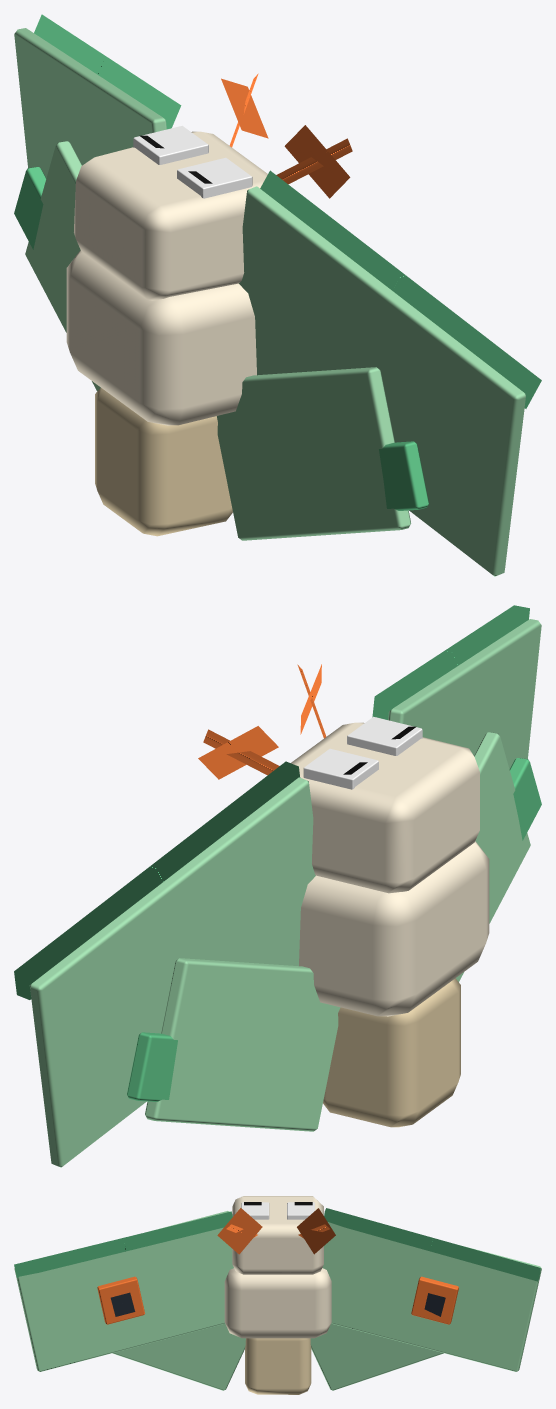
File: lil-moth-lee-mason_8ojwMQpu6DK-blocky_lod1.glb
3 renders of one model, top to bottom at view 1: azimuth 30°, elevation 25°; view 2: azimuth 150°, elevation 25°; view 3: azimuth 270°, elevation 25°, orthographic. The views are drawn at different scales.
Visible parts, largest first — view 1: group866114162; view 2: group866114162; view 3: group866114162.
Boxes of the visible parts, left/top/right/bottom form: group866114162: left=14, top=14, right=541, bottom=576; group866114162: left=14, top=605, right=541, bottom=1167; group866114162: left=14, top=1196, right=541, bottom=1394.
Bounding box in the file's own units: 1.44 × 2.7 × 6.3.
Materials: 1 (1 with a texture image).
